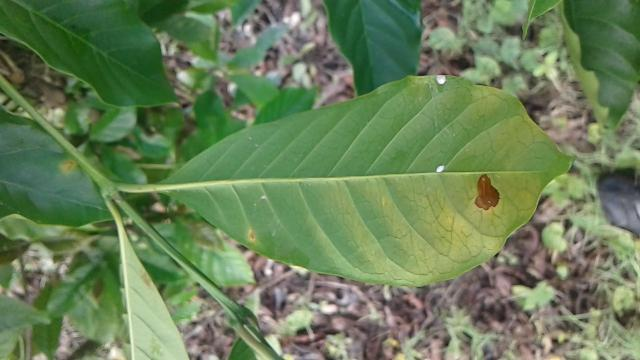rust_level_1: (153, 70, 585, 292)
